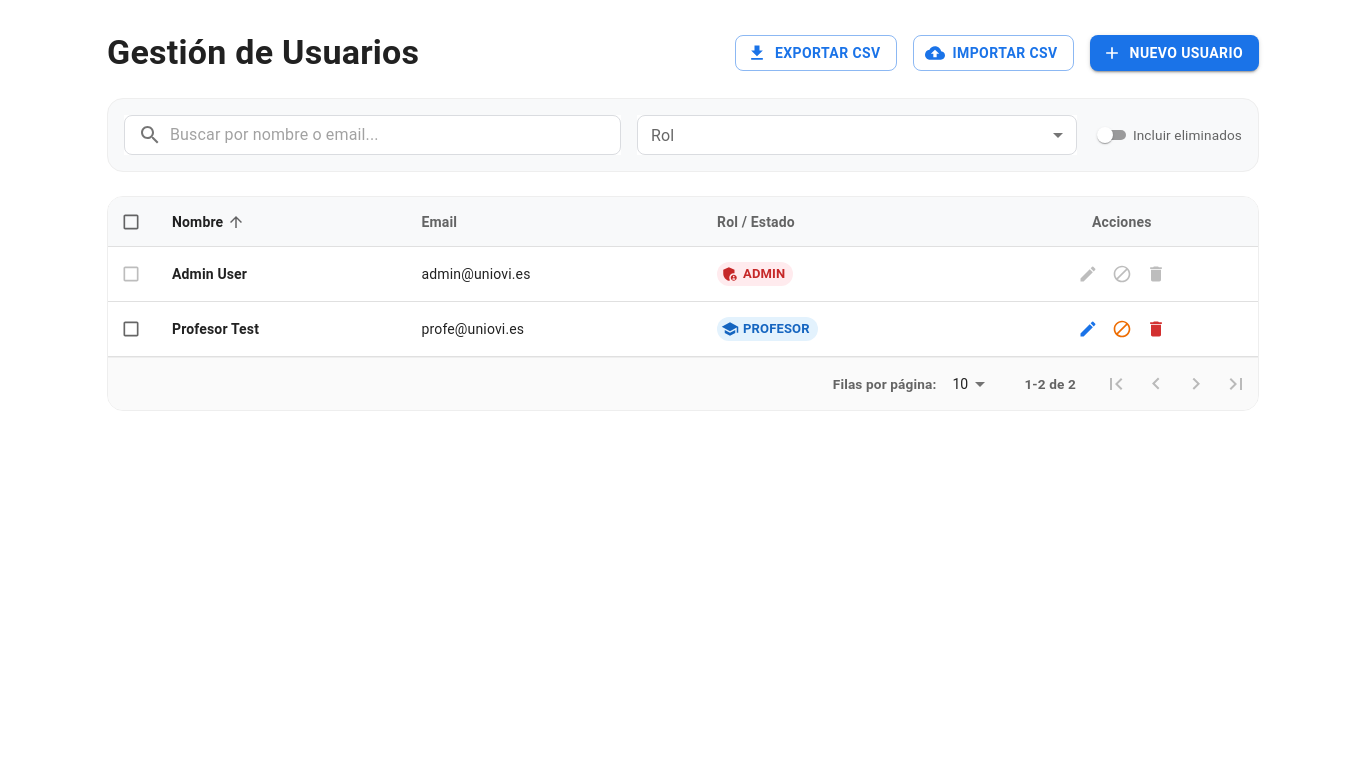
Test case: UserList › debe abrir el diálogo de bloqueo al pulsar bloquear en un usuario no protegido
Expected: the text "Profesor Test" is shown, [172,319,259,339]
Click the button named "bloquear acceso" at x=1122, y=329, box [1107,314,1137,344]
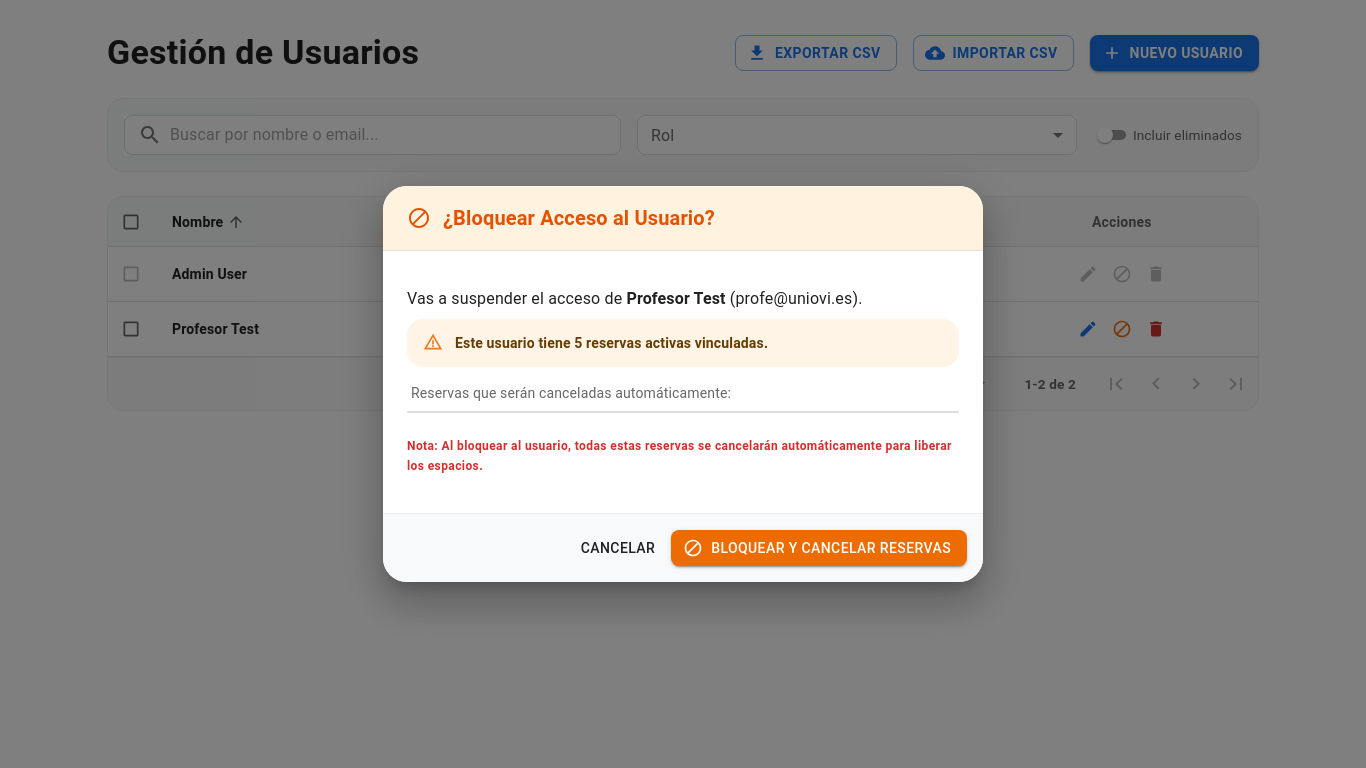
Expected: the heading "¿Bloquear Acceso al Usuario?" is shown, [383,186,983,250]
